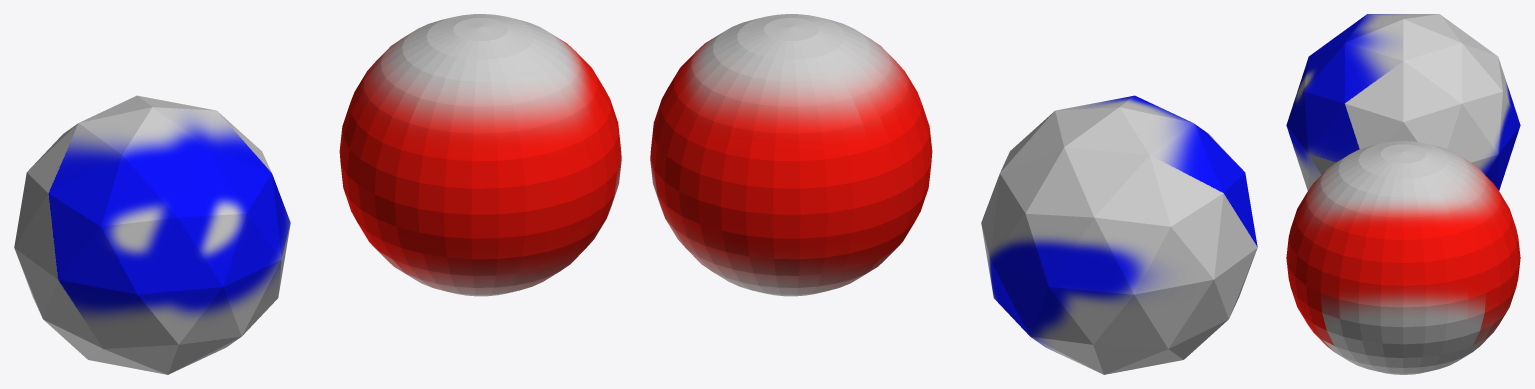
Rendered from random_objects.glb.
The picture shows the model from 3 angles, left to right: view 1: azimuth 30°, elevation 25°; view 2: azimuth 150°, elevation 25°; view 3: azimuth 270°, elevation 25°; orthographic projection. The views are drawn at different scales.
Visible parts, largest first — view 1: Sphere, Icosphere; view 2: Sphere, Icosphere; view 3: Sphere, Icosphere.
Boxes of the visible parts, bbox=[...] form: Sphere: bbox=[339, 14, 621, 296]; Icosphere: bbox=[14, 95, 290, 374]; Sphere: bbox=[650, 14, 932, 296]; Icosphere: bbox=[981, 95, 1257, 374]; Sphere: bbox=[1286, 141, 1520, 374]; Icosphere: bbox=[1286, 14, 1520, 190].
Size of the model in its own units: 4.63 by 2 by 2.
2 materials, 2 textured.
